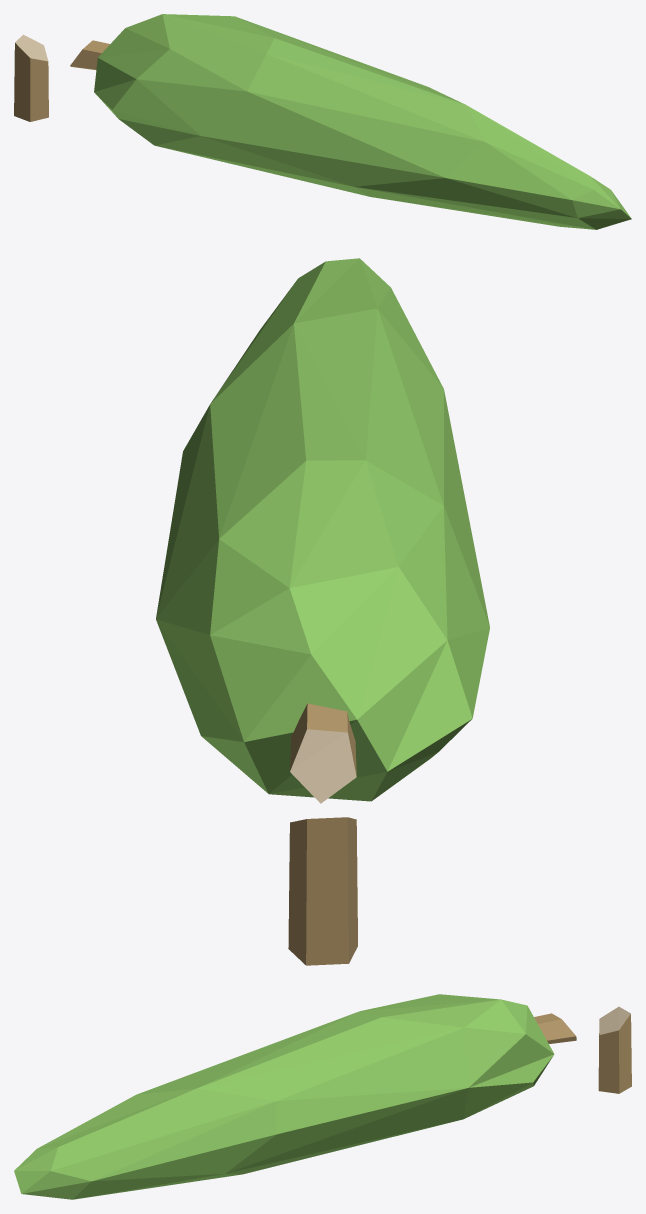
The model's file is Thuja_Tree_crk_m_01.fbx.
3 renders of one model, top to bottom at view 1: azimuth 30°, elevation 25°; view 2: azimuth 150°, elevation 25°; view 3: azimuth 270°, elevation 25°, orthographic. The views are drawn at different scales.
Visible parts, largest first — view 1: Thuja_Tree_crk_m_01; view 2: Thuja_Tree_crk_m_01; view 3: Thuja_Tree_crk_m_01.
Part boxes in pixels (x1,y1,x2,y2): Thuja_Tree_crk_m_01: (14,14,631,229); Thuja_Tree_crk_m_01: (156,258,489,965); Thuja_Tree_crk_m_01: (14,994,631,1199).
Bounding box in the file's own units: 265 × 104 × 448.
